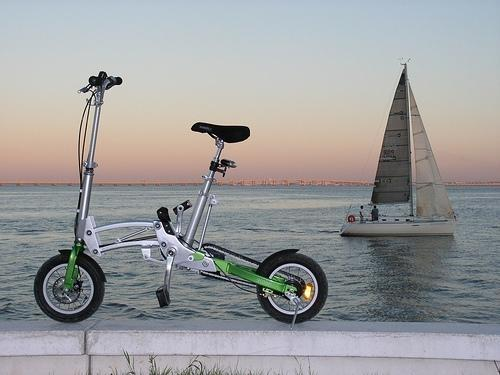bicycle: (34, 72, 330, 329)
